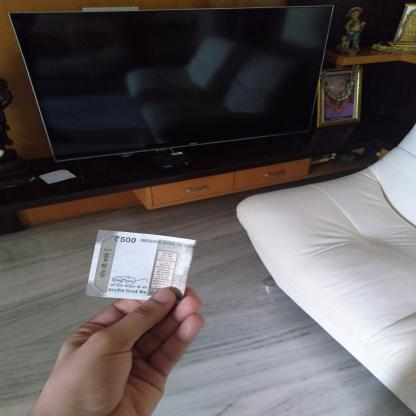New500Back: (91, 233, 189, 304)
